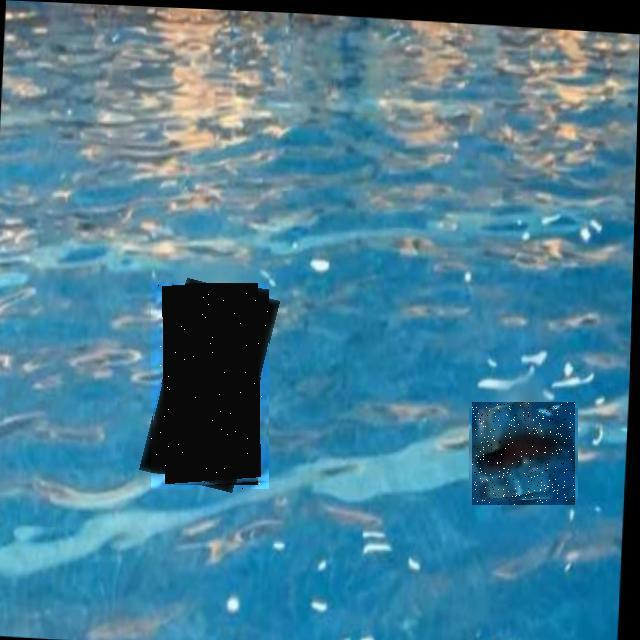swimming: (151, 283, 269, 489), (472, 402, 575, 505)
